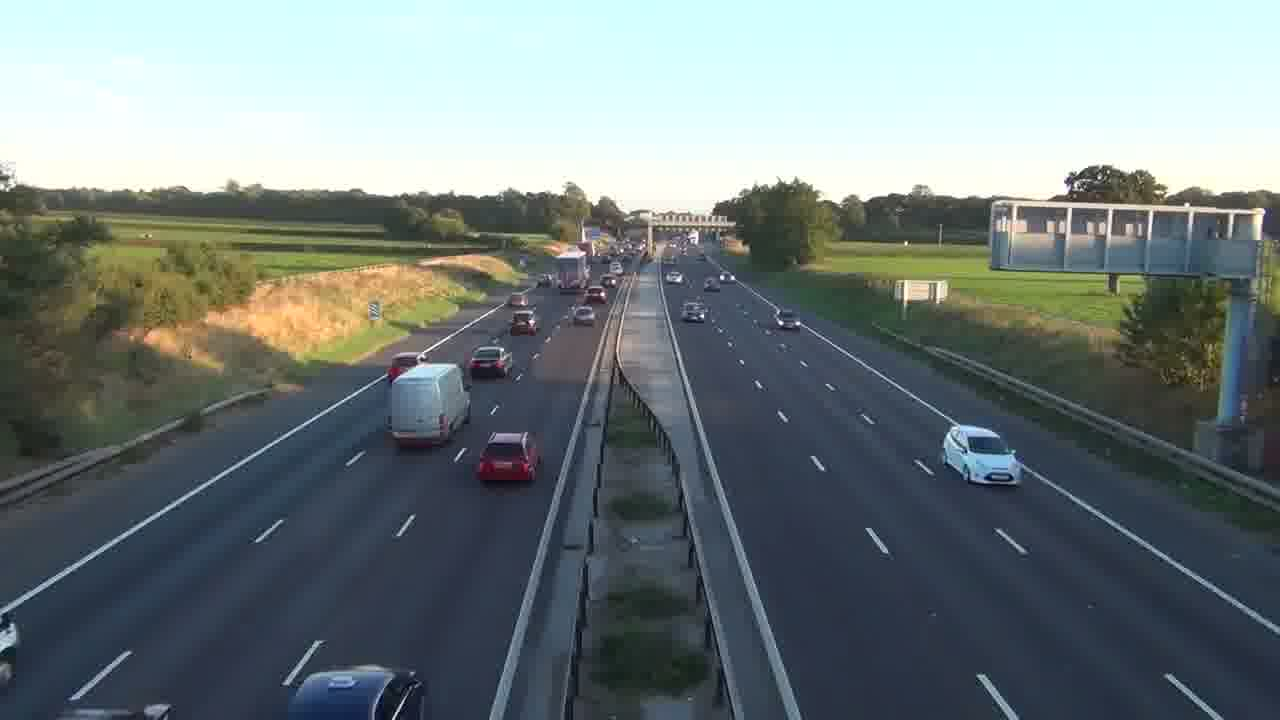car: (287, 665, 427, 718), (941, 423, 1025, 486), (476, 432, 543, 483), (468, 344, 513, 379), (572, 304, 596, 326)
truck: (387, 362, 470, 449)
